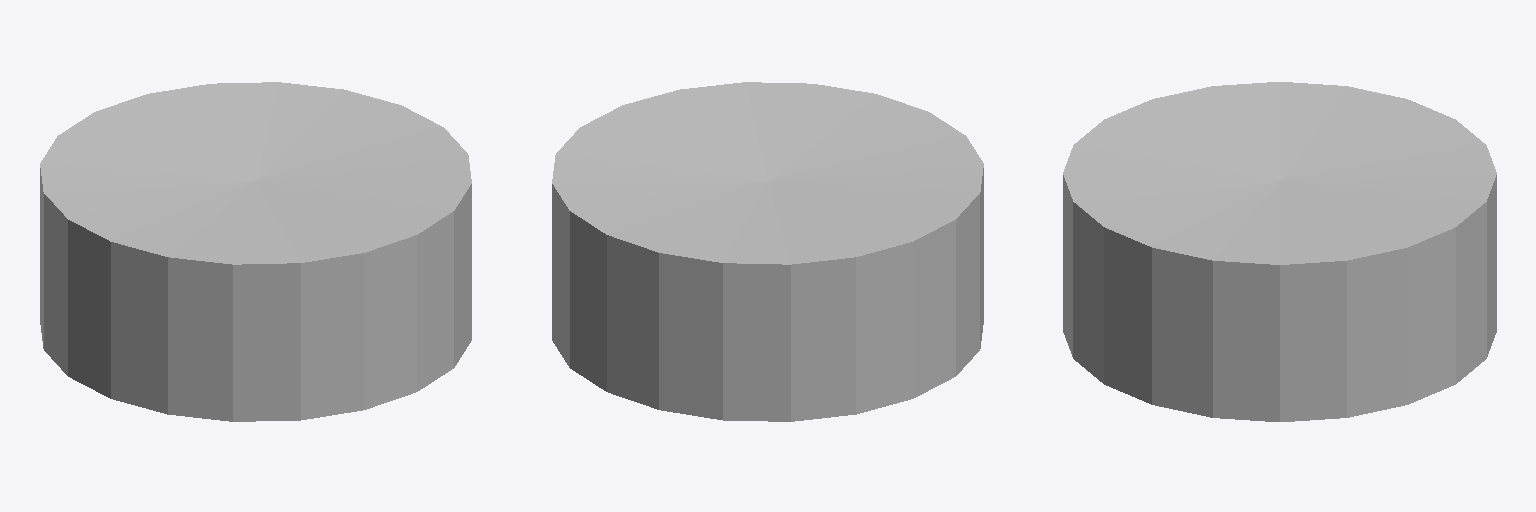
Rendered from canned_food_8.obj.
3 renders of one model, left to right at view 1: azimuth 30°, elevation 25°; view 2: azimuth 150°, elevation 25°; view 3: azimuth 270°, elevation 25°, orthographic.
Visible parts, largest first — view 1: pasted__pasted__pasted__pasted__pasted__pasted__pasted__pasted__; view 2: pasted__pasted__pasted__pasted__pasted__pasted__pasted__pasted__; view 3: pasted__pasted__pasted__pasted__pasted__pasted__pasted__pasted__.
Part boxes in pixels (left/top/right/bottom): pasted__pasted__pasted__pasted__pasted__pasted__pasted__pasted__: left=40, top=82, right=471, bottom=421; pasted__pasted__pasted__pasted__pasted__pasted__pasted__pasted__: left=552, top=82, right=983, bottom=421; pasted__pasted__pasted__pasted__pasted__pasted__pasted__pasted__: left=1063, top=82, right=1496, bottom=421.
Size of the model in its own units: 0.6873 by 0.2884 by 0.6873.